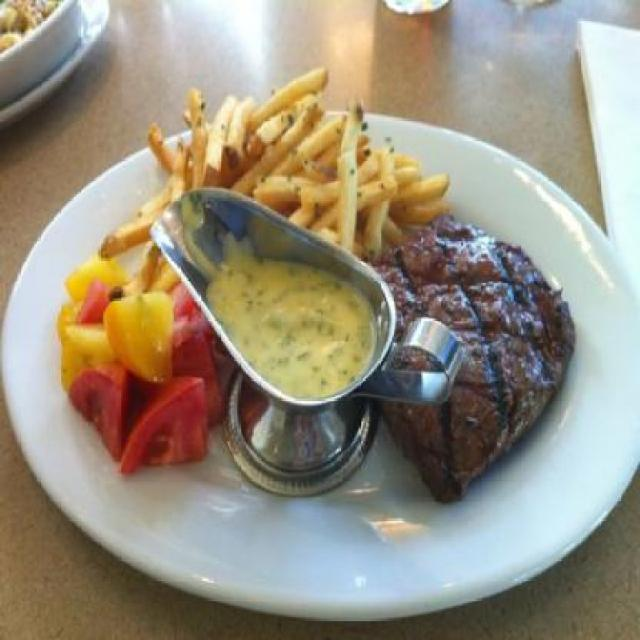French fries: (174, 90, 456, 232)
Steak: (378, 218, 559, 497)
